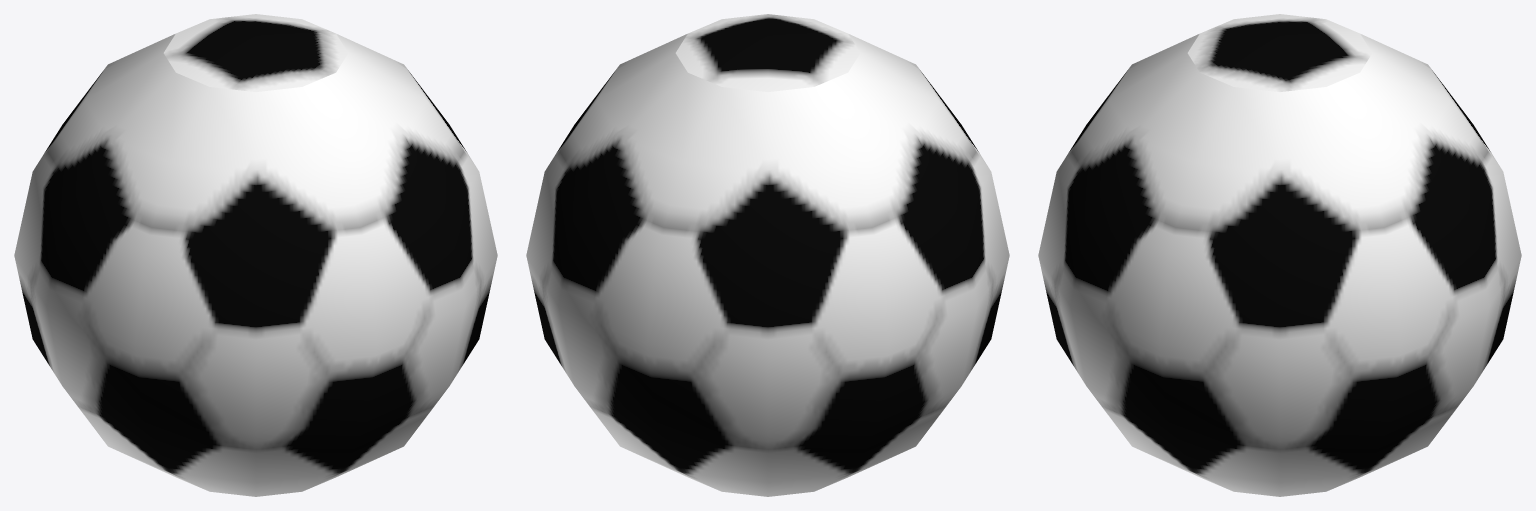
File: Soccer Ball.obj
3 renders of one model, left to right at view 1: azimuth 30°, elevation 25°; view 2: azimuth 150°, elevation 25°; view 3: azimuth 270°, elevation 25°, orthographic.
Visible parts, largest first — view 1: n0b1, n1b0; view 2: n0b1, n1b0; view 3: n0b1, n1b0.
Boxes of the visible parts, x1=… form: n0b1: x1=14, y1=34, x2=497, y2=496; n1b0: x1=163, y1=14, x2=348, y2=91; n0b1: x1=526, y1=34, x2=1009, y2=496; n1b0: x1=675, y1=14, x2=860, y2=91; n0b1: x1=1038, y1=34, x2=1521, y2=496; n1b0: x1=1187, y1=14, x2=1372, y2=91.
Bounding box in the file's own units: 100 × 100 × 100.
Materials: 1 (1 with a texture image).
